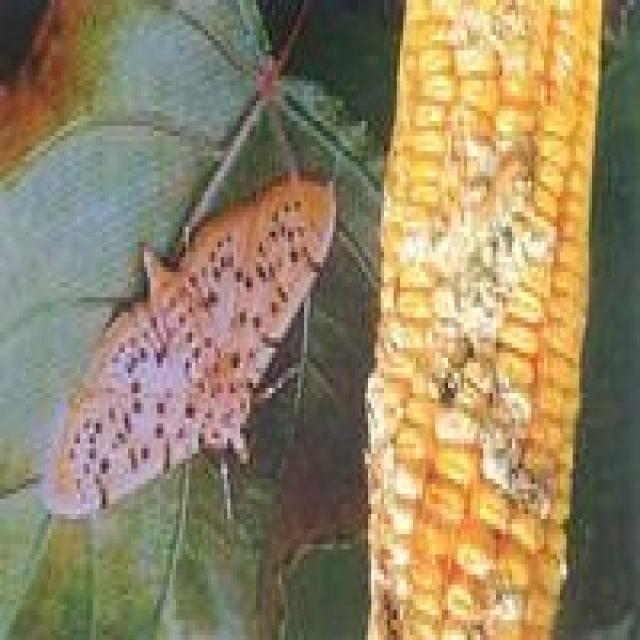peach borer: (20, 165, 347, 523)
